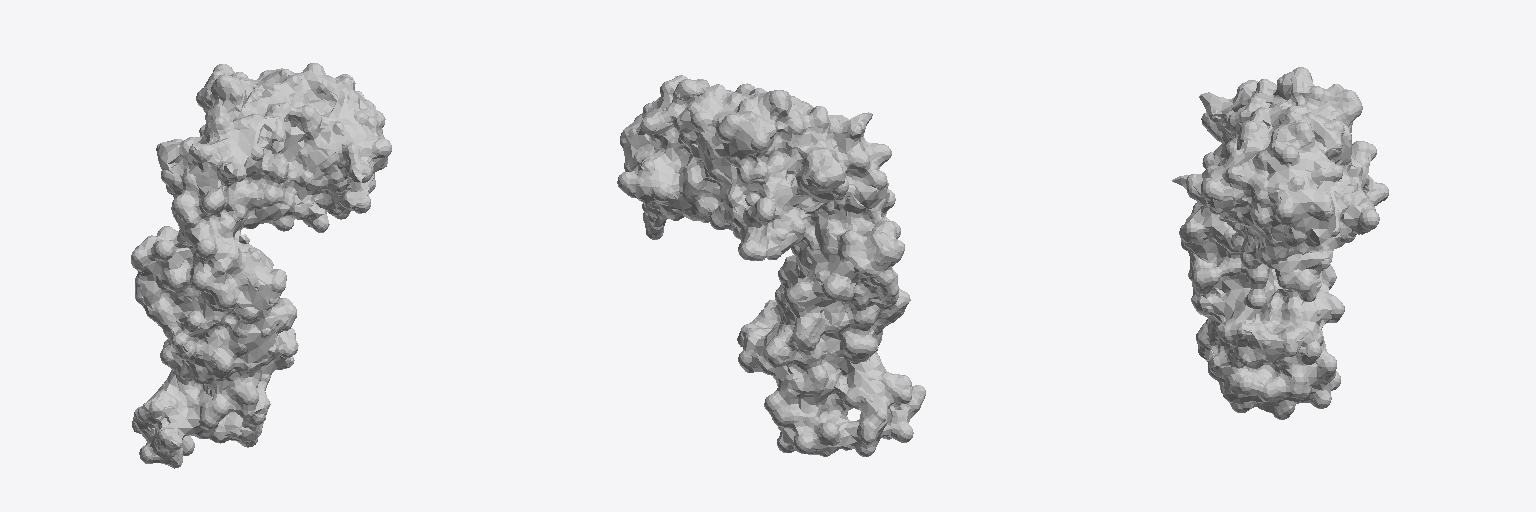
The model's file is vaccine.obj.
3 renders of one model, left to right at view 1: azimuth 30°, elevation 25°; view 2: azimuth 150°, elevation 25°; view 3: azimuth 270°, elevation 25°, orthographic.
Parts seen in each view (by area): view 1: MSMS_main_surface_of_1kcr_1, 1kcr_surfaces_1.H; view 2: MSMS_main_surface_of_1kcr_1, 1kcr_surfaces_1.H; view 3: MSMS_main_surface_of_1kcr_1, 1kcr_surfaces_1.H.
Part boxes in pixels (left/top/right/bottom): MSMS_main_surface_of_1kcr_1: left=131, top=63, right=391, bottom=468; 1kcr_surfaces_1.H: left=134, top=68, right=387, bottom=466; MSMS_main_surface_of_1kcr_1: left=617, top=75, right=925, bottom=456; 1kcr_surfaces_1.H: left=620, top=76, right=923, bottom=453; MSMS_main_surface_of_1kcr_1: left=1179, top=67, right=1388, bottom=419; 1kcr_surfaces_1.H: left=1172, top=71, right=1377, bottom=412.
Size of the model in its own units: 52.27 by 68.16 by 37.95.